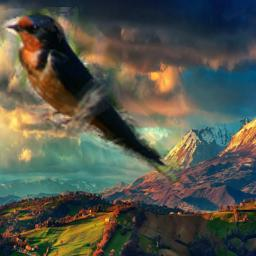Swallow: (0, 7, 181, 183)
